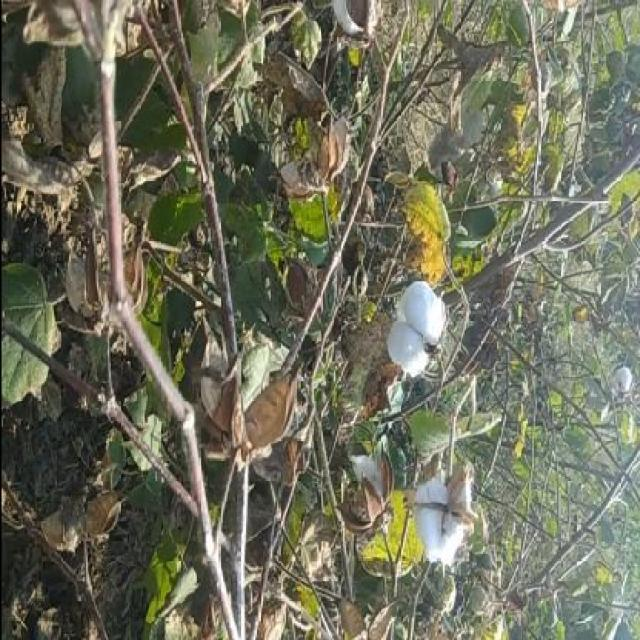cotton_ready: (388, 415, 475, 582), (362, 246, 452, 402)
